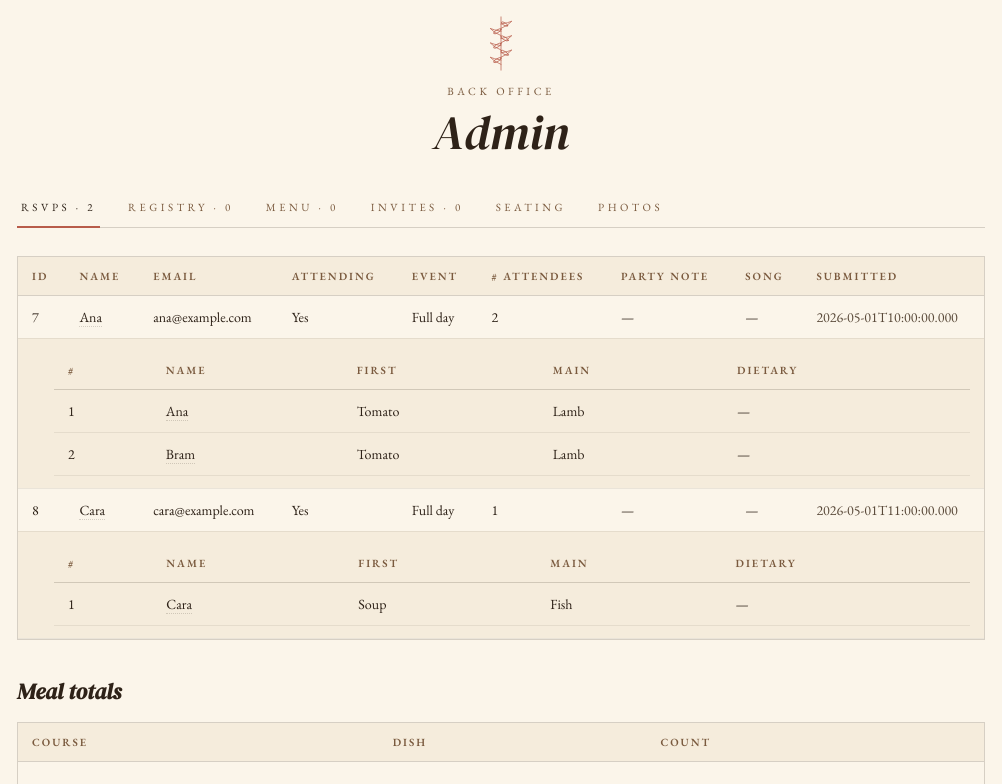
AdminDashboard — renaming guests › Escape restores the original name and sends no request
Click the button with aria-label "Lead name: Ana" at {"x": 91, "y": 317}, box [79, 308, 102, 327]
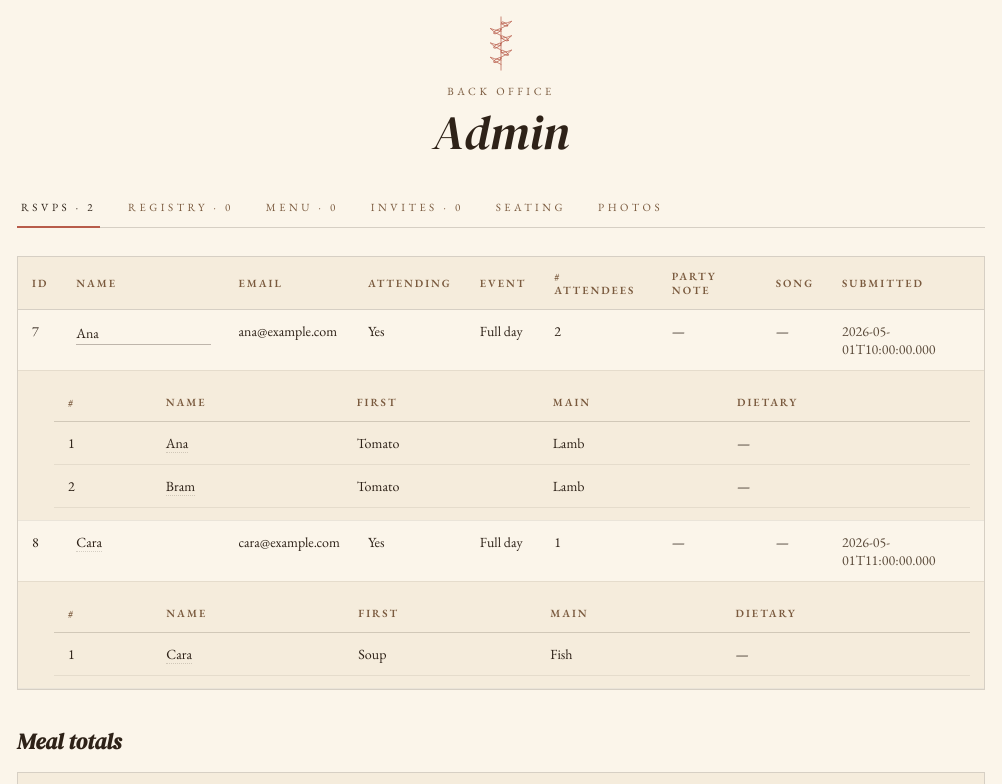
Replace the text in the field named "Lead name: Ana" with "Whoops" at {"x": 143, "y": 333}, box [76, 322, 211, 345]
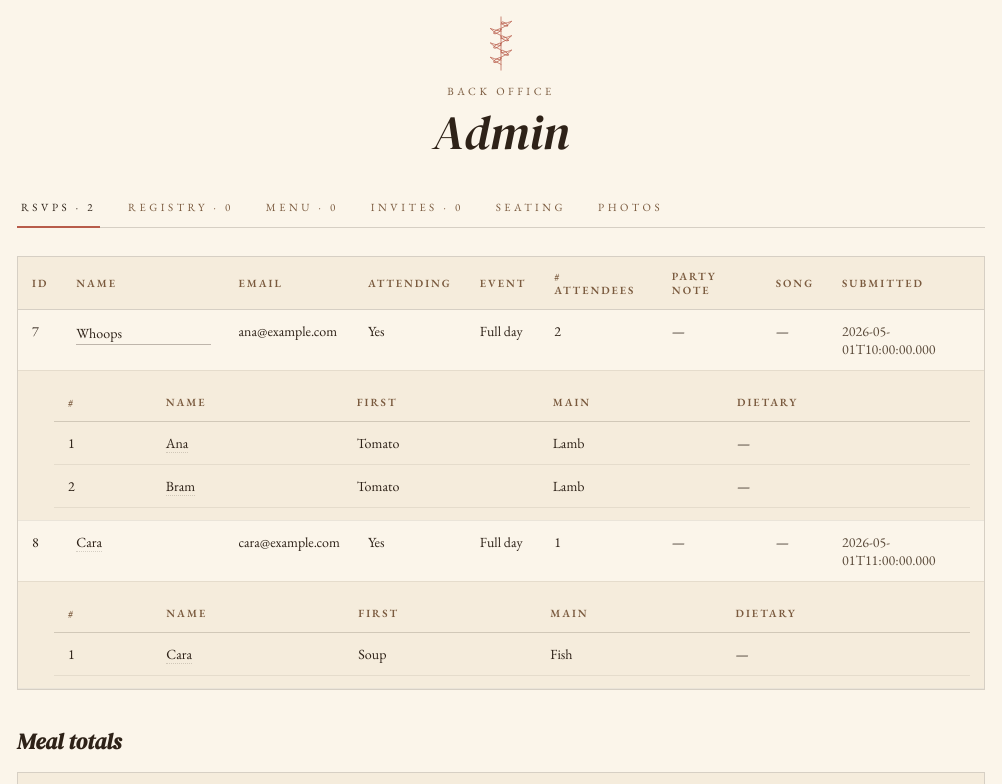
Press Escape in the field named "Lead name: Ana", box [76, 322, 211, 345]
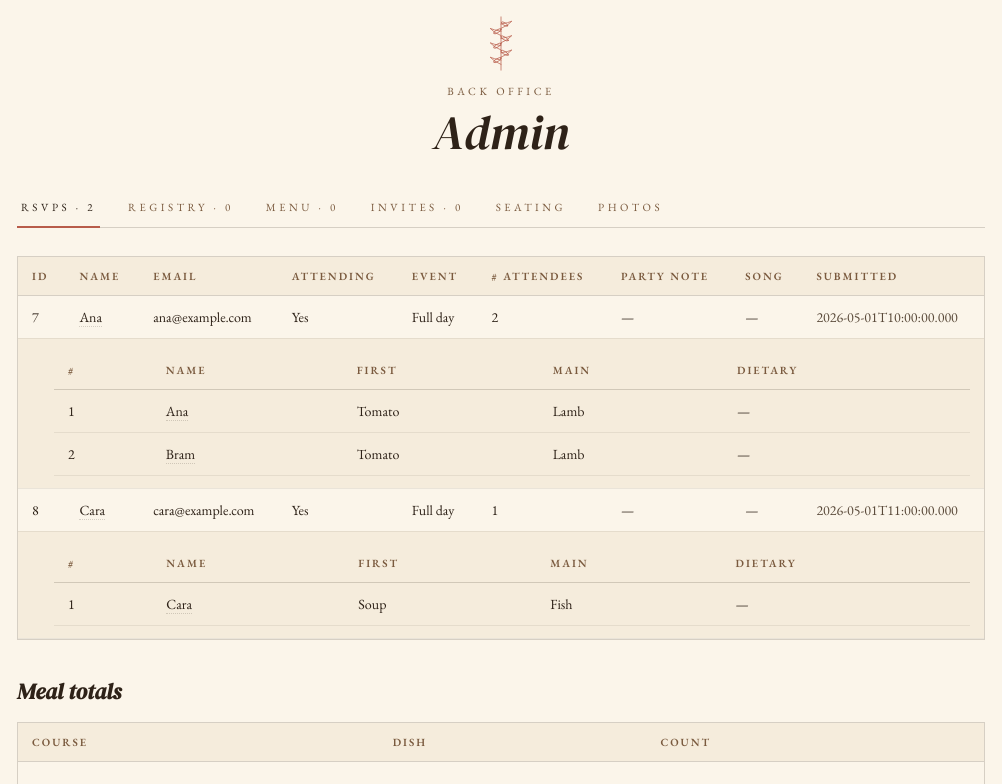
Result: the number of buttons "Ana" is 2 at [79, 308, 102, 327]; [166, 402, 188, 421]
